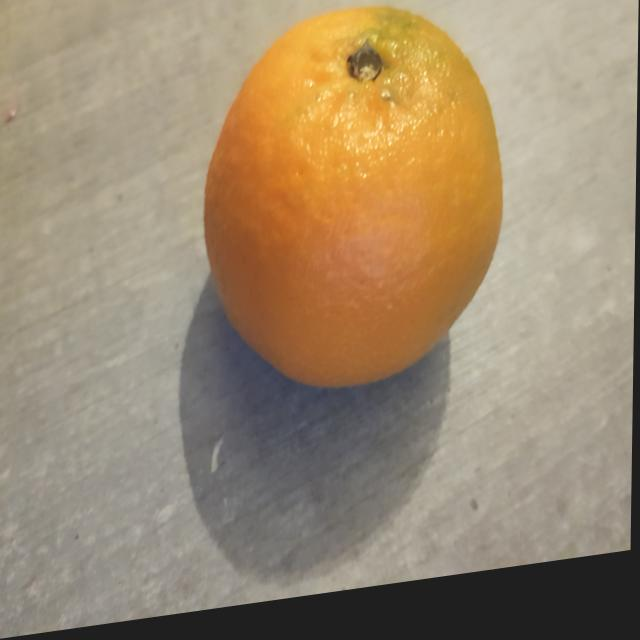Orange: (202, 18, 505, 401)
